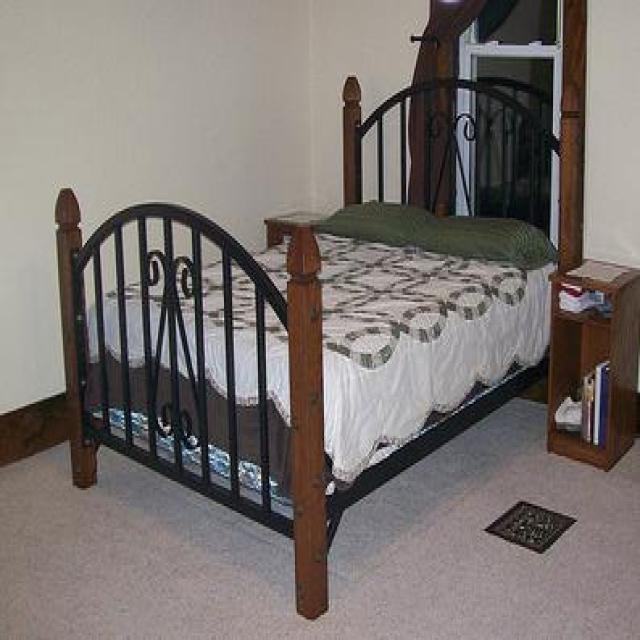bed: (54, 78, 588, 637)
